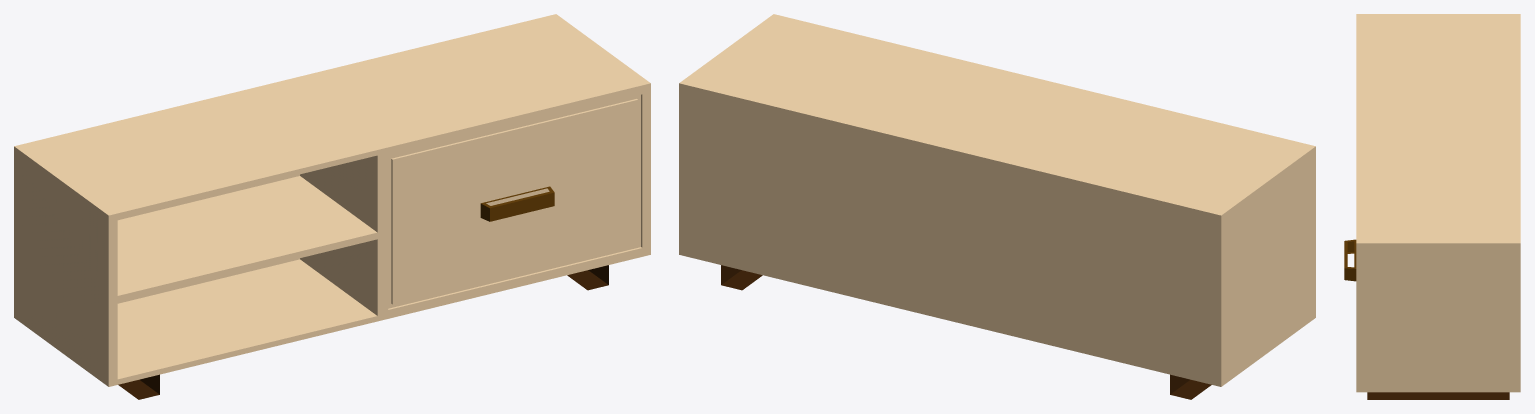
File: tv_cabinet_01.glb
The picture shows the model from 3 angles, left to right: view 1: azimuth 30°, elevation 25°; view 2: azimuth 150°, elevation 25°; view 3: azimuth 270°, elevation 25°; orthographic projection. The views are drawn at different scales.
Parts seen in each view (by area): view 1: Cube; view 2: Cube; view 3: Cube.
Boxes of the visible parts, x1,y1,x2,y2 form: Cube: [14, 14, 650, 399]; Cube: [679, 14, 1315, 399]; Cube: [1344, 14, 1520, 399].
Size of the model in its own units: 1.97 by 0.6874 by 0.6398.
1 material, 1 textured.
